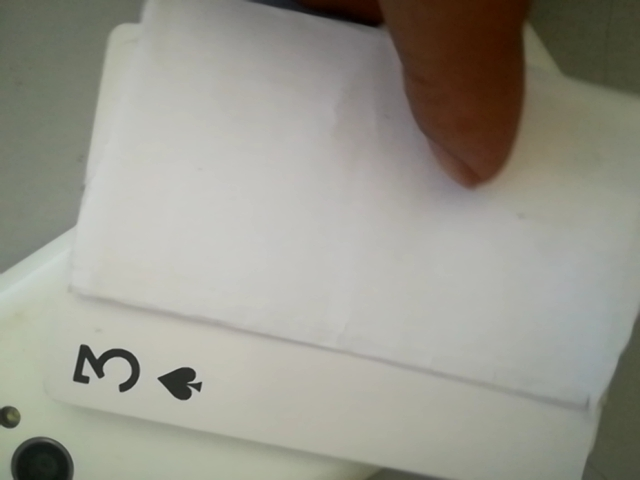ht 3: (58, 327, 217, 417)
